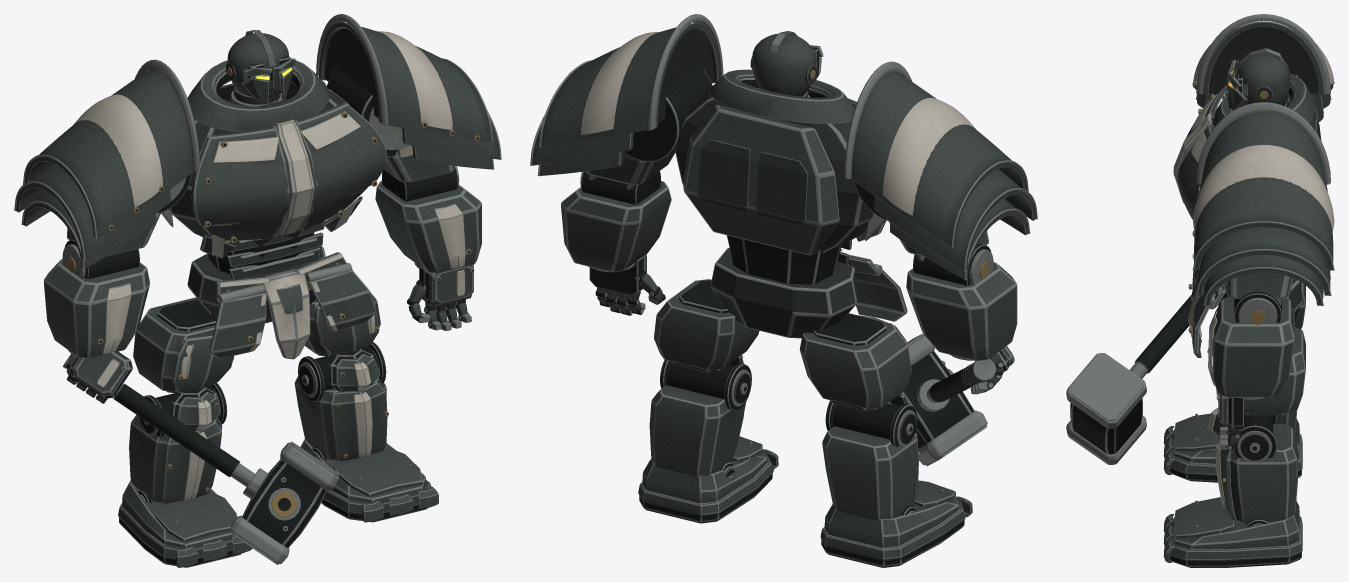
The model's file is tank-t3-warden.glb.
The picture shows the model from 3 angles, left to right: view 1: azimuth 30°, elevation 25°; view 2: azimuth 150°, elevation 25°; view 3: azimuth 270°, elevation 25°; orthographic projection. The views are drawn at different scales.
Parts seen in each view (by area): view 1: chest__clay, pauldronR__clay, pauldronL__clay, weaponR__metal, elbowR__clay, kneeL__clay, elbowL__clay, ankleR__clay, pelvis__metal, kneeR__clay, ankleL__clay, hipR__clay (+21 smaller); view 2: pauldronR__clay, chest__clay, pauldronL__clay, chest__metal, pelvis__metal, elbowR__clay, kneeR__clay, elbowL__clay, kneeL__clay, hipR__clay, weaponR__metal, ankleR__clay (+18 smaller); view 3: pauldronL__clay, weaponR__metal, elbowL__clay, ankleL__clay, kneeL__clay, pauldronR__metal, chest__clay, pauldronL__metal, ankleR__clay, head__clay, pauldronR__clay, hipL__clay (+12 smaller).
Part boxes in pixels (<box>): chest__clay: <box>187,60,387,258</box>; pauldronR__clay: <box>16,69,193,268</box>; pauldronL__clay: <box>319,22,499,169</box>; weaponR__metal: <box>63,354,339,564</box>; elbowR__clay: <box>43,258,149,358</box>; kneeL__clay: <box>294,354,387,461</box>; elbowL__clay: <box>375,180,481,273</box>; ankleR__clay: <box>118,480,252,567</box>; pelvis__metal: <box>187,221,352,323</box>; kneeR__clay: <box>129,392,222,503</box>; ankleL__clay: <box>300,439,438,522</box>; hipR__clay: <box>133,297,234,391</box>; pauldronR__clay: <box>851,71,1035,278</box>; chest__clay: <box>683,69,886,255</box>; pauldronL__clay: <box>532,22,720,175</box>; chest__metal: <box>674,76,885,252</box>; pelvis__metal: <box>710,235,882,338</box>; elbowR__clay: <box>906,262,1017,360</box>; kneeR__clay: <box>822,392,918,520</box>; elbowL__clay: <box>561,181,671,272</box>; kneeL__clay: <box>649,355,745,476</box>; hipR__clay: <box>799,313,911,409</box>; weaponR__metal: <box>903,333,995,466</box>; ankleR__clay: <box>820,480,972,561</box>; pauldronL__clay: <box>1193,112,1334,305</box>; weaponR__metal: <box>1066,295,1191,464</box>; elbowL__clay: <box>1208,297,1294,397</box>; ankleL__clay: <box>1163,497,1302,562</box>; kneeL__clay: <box>1207,408,1297,524</box>; pauldronR__metal: <box>1192,14,1334,112</box>; chest__clay: <box>1173,74,1317,219</box>; pauldronL__metal: <box>1192,102,1334,306</box>; ankleR__clay: <box>1163,413,1302,476</box>; head__clay: <box>1228,51,1290,110</box>; pauldronR__clay: <box>1193,21,1334,122</box>; hipL__clay: <box>1244,327,1305,413</box>.
Bounding box in the file's own units: 3.68 × 3.98 × 2.12.
12 materials, 10 textured.
